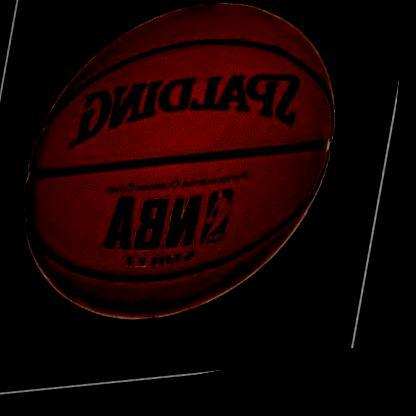basketball: (3, 0, 368, 359)
